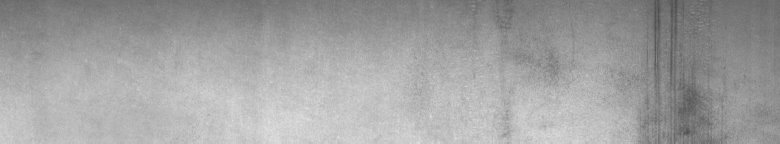ka: (641, 4, 716, 136)
